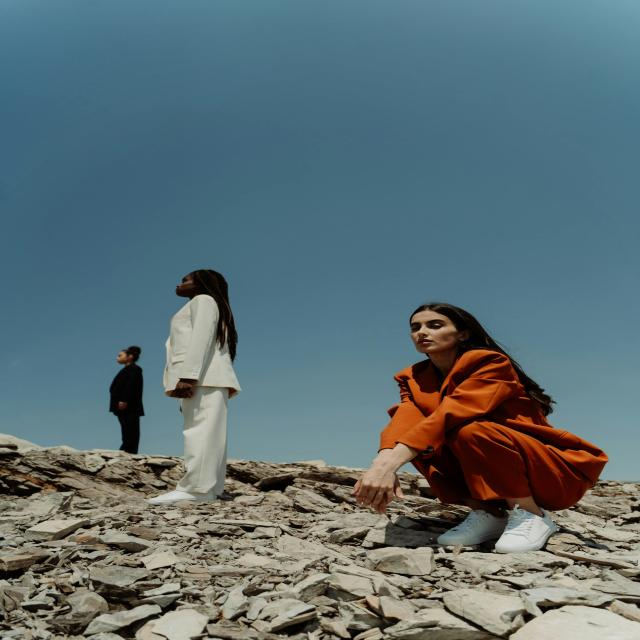sit: (366, 295, 594, 559)
stand: (160, 254, 259, 522), (97, 337, 153, 461)
